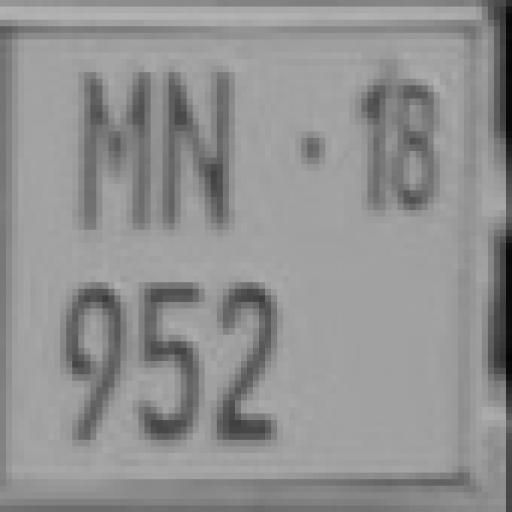2: (210, 270, 280, 447)
5: (140, 278, 204, 448)
9: (43, 274, 133, 449)
M: (69, 62, 150, 244)
N: (157, 60, 252, 238)
